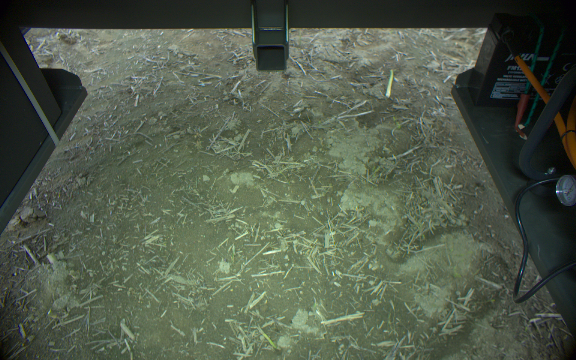aspa: (382, 66, 397, 100)
